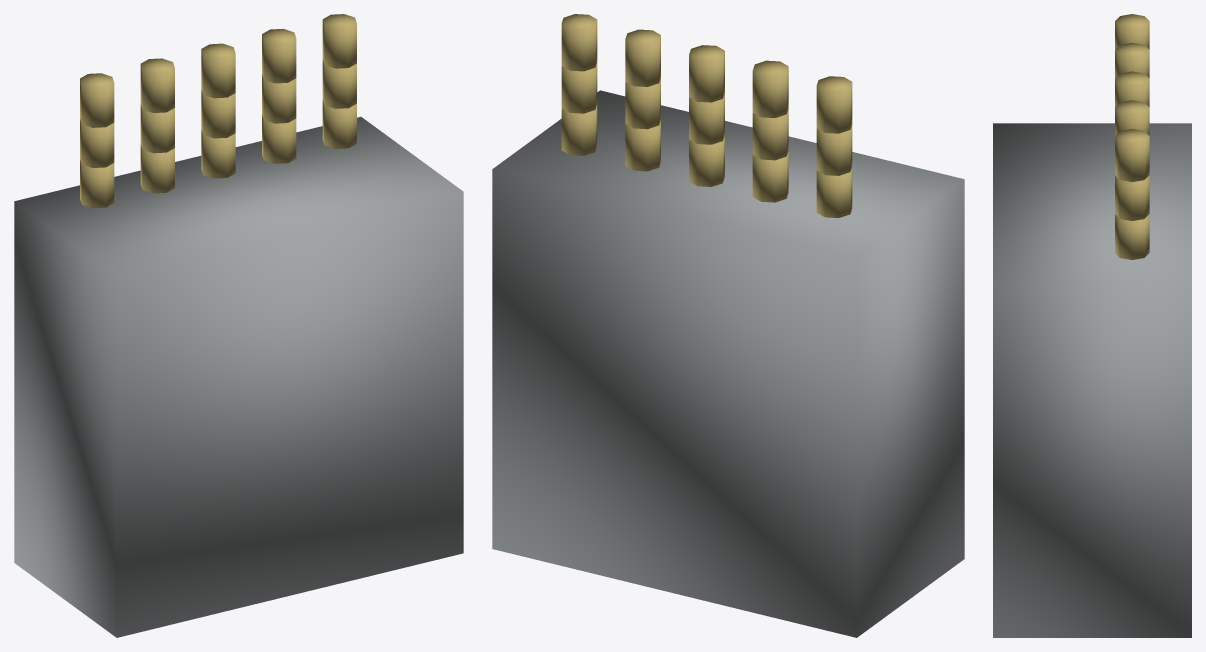
File: votive_candle_stand__compact.glb
3 renders of one model, left to right at view 1: azimuth 30°, elevation 25°; view 2: azimuth 150°, elevation 25°; view 3: azimuth 270°, elevation 25°, orthographic. The views are drawn at different scales.
Parts seen in each view (by area): view 1: world; view 2: world; view 3: world.
Boxes of the visible parts, box(x1,y1,x2,y2) form: world: box(14, 14, 463, 637); world: box(492, 14, 964, 637); world: box(993, 14, 1191, 637).
Bounding box in the file's own units: 0.672 × 0.9114 × 0.344.
